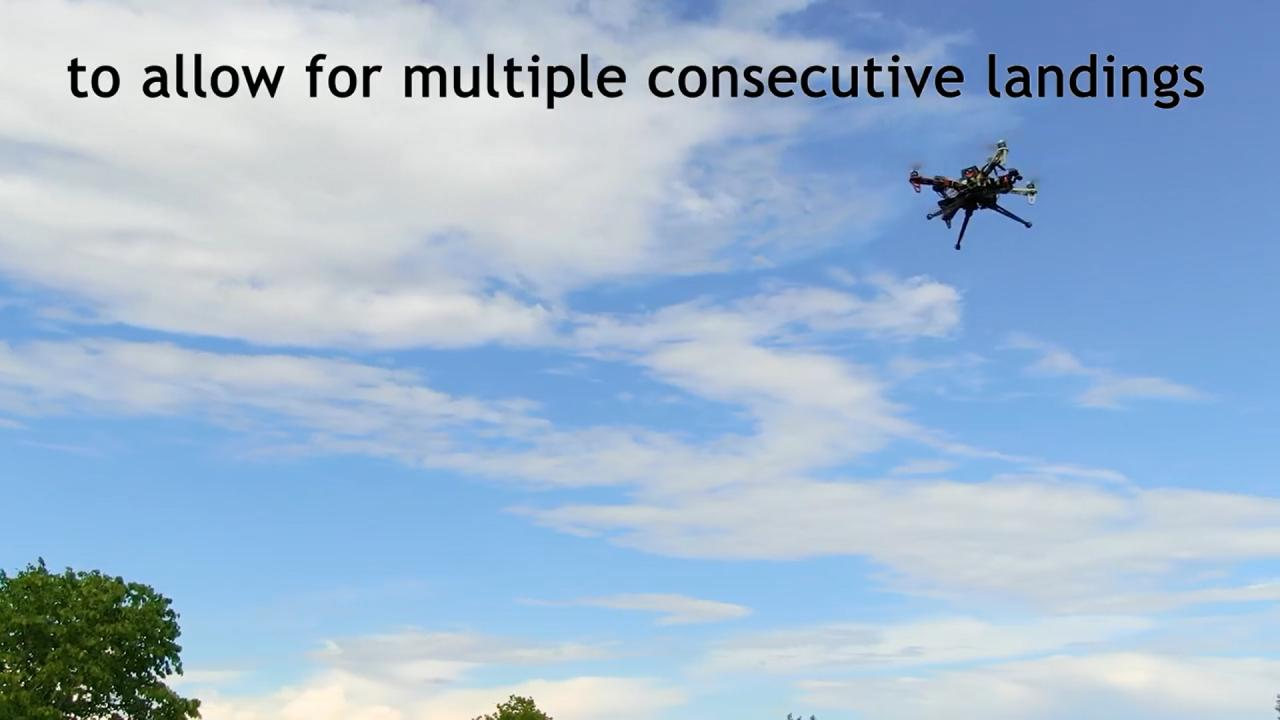Drone: (889, 126, 1058, 264)
